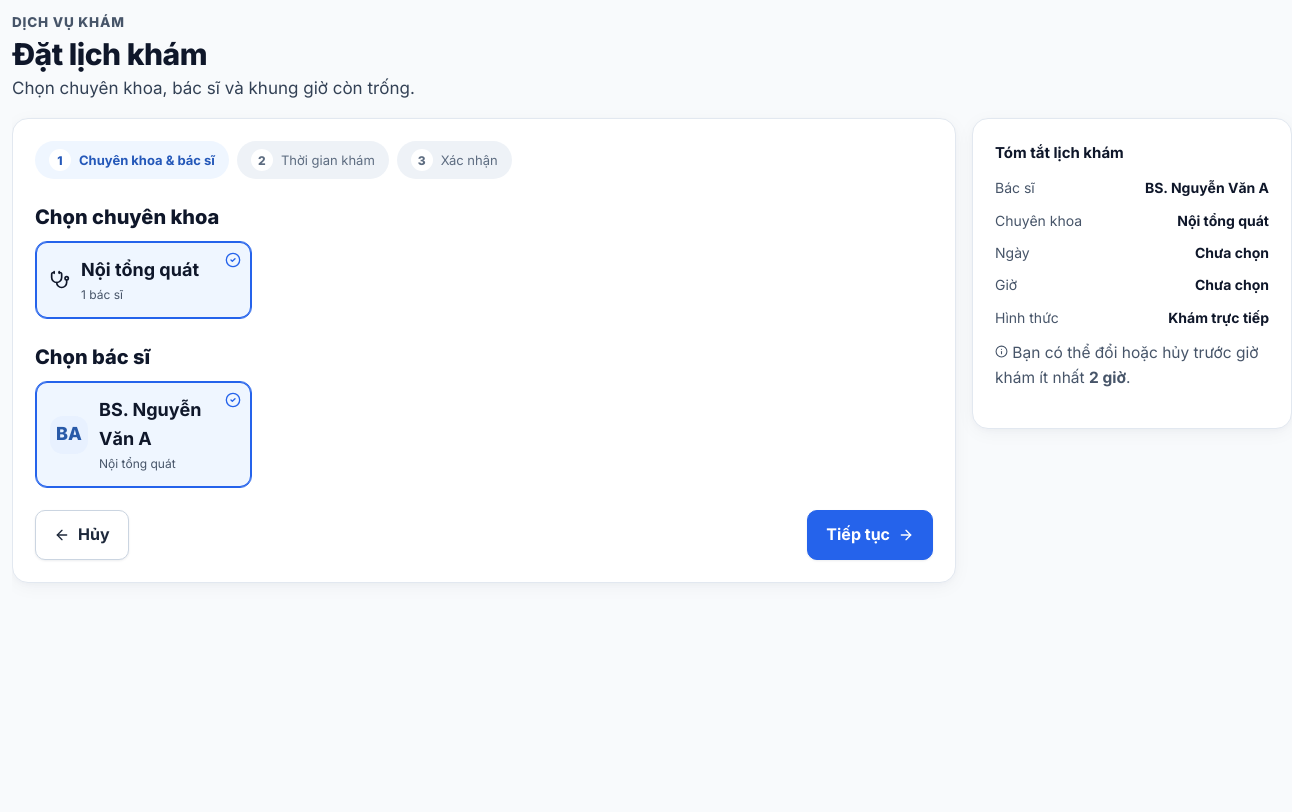
Test case: BookingPage offline resilience (NFR-09 / AGENT-TC-001) › shows error within 10s on network loss, preserves selection, and reuses the same Idempotency-Key on retry
This screenshot has width=1292, height=812.
Click the button "Tiếp tục" at (870, 535), box left=807, top=510, right=933, bottom=560
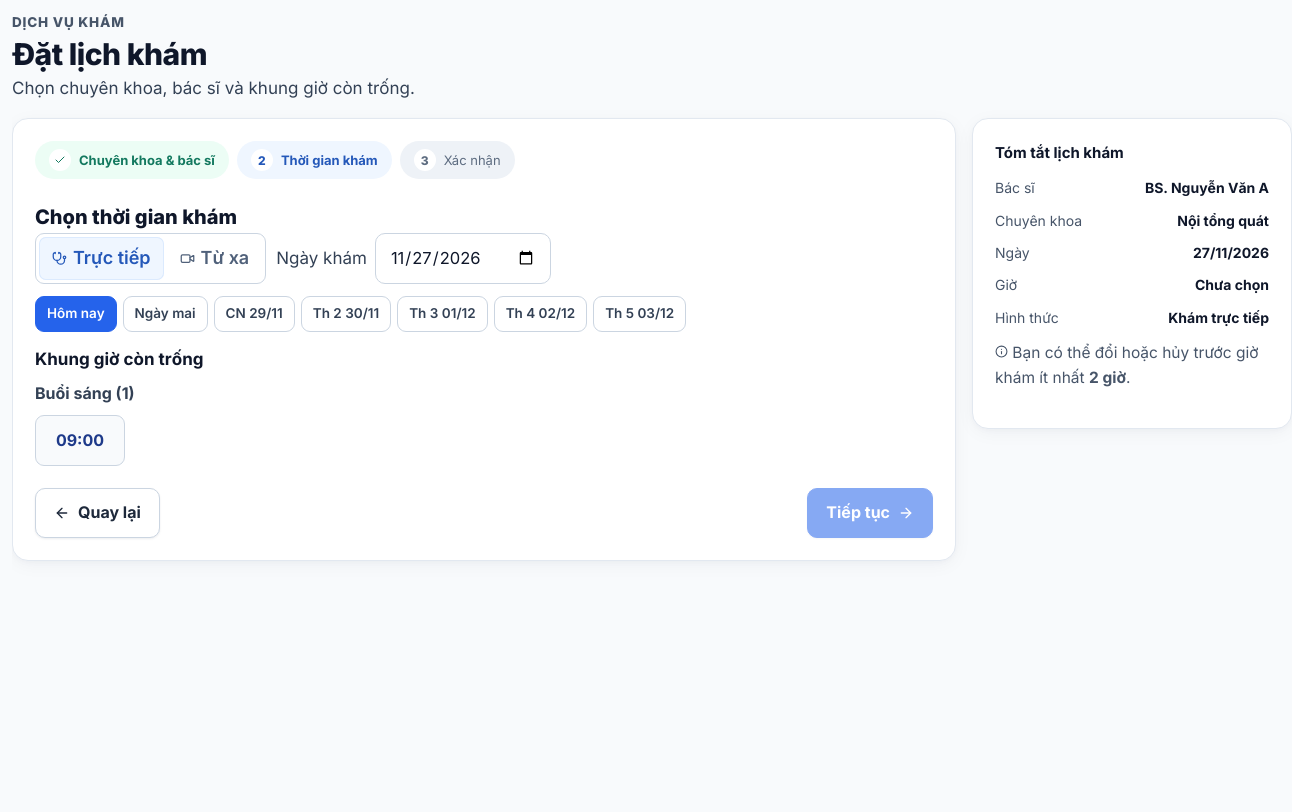
Click the button "09:00" at (80, 441), box left=35, top=415, right=125, bottom=466
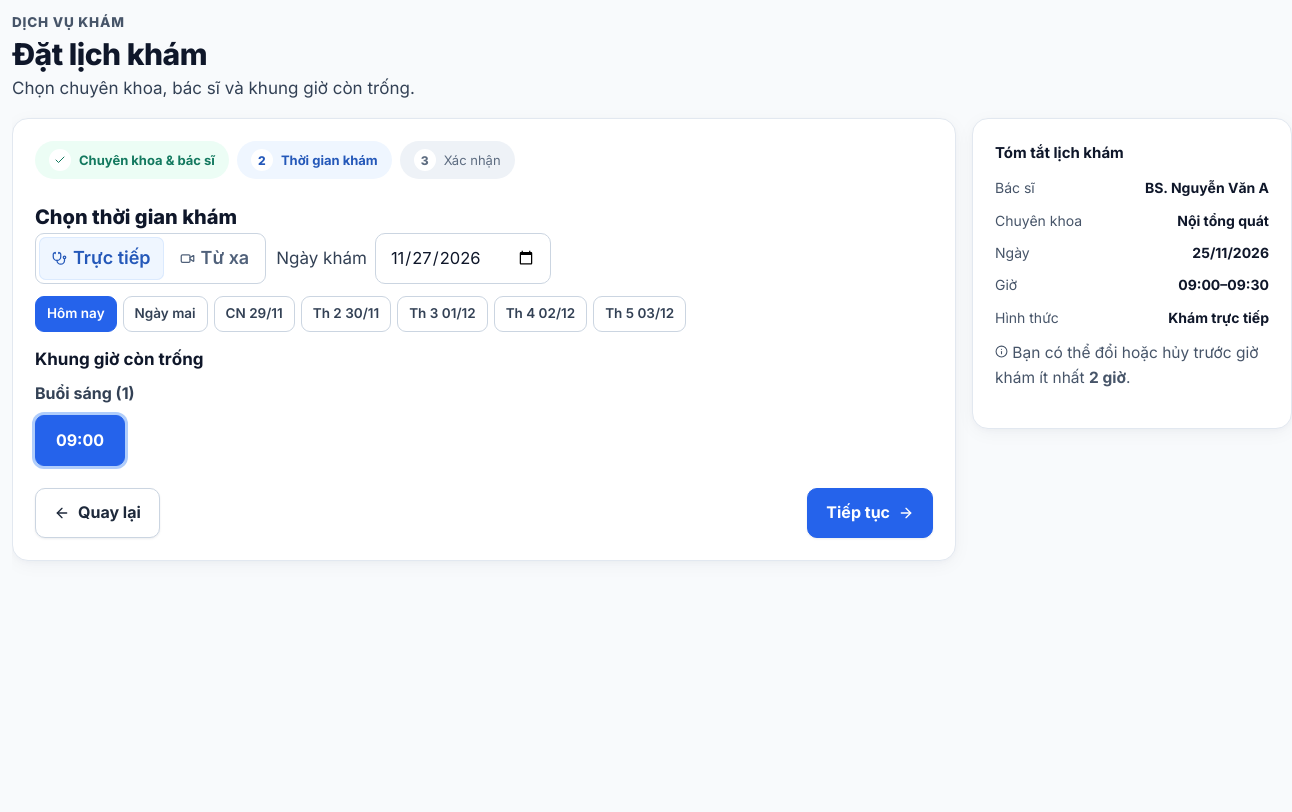
Click the button "Tiếp tục" at (870, 513), box left=807, top=488, right=933, bottom=538
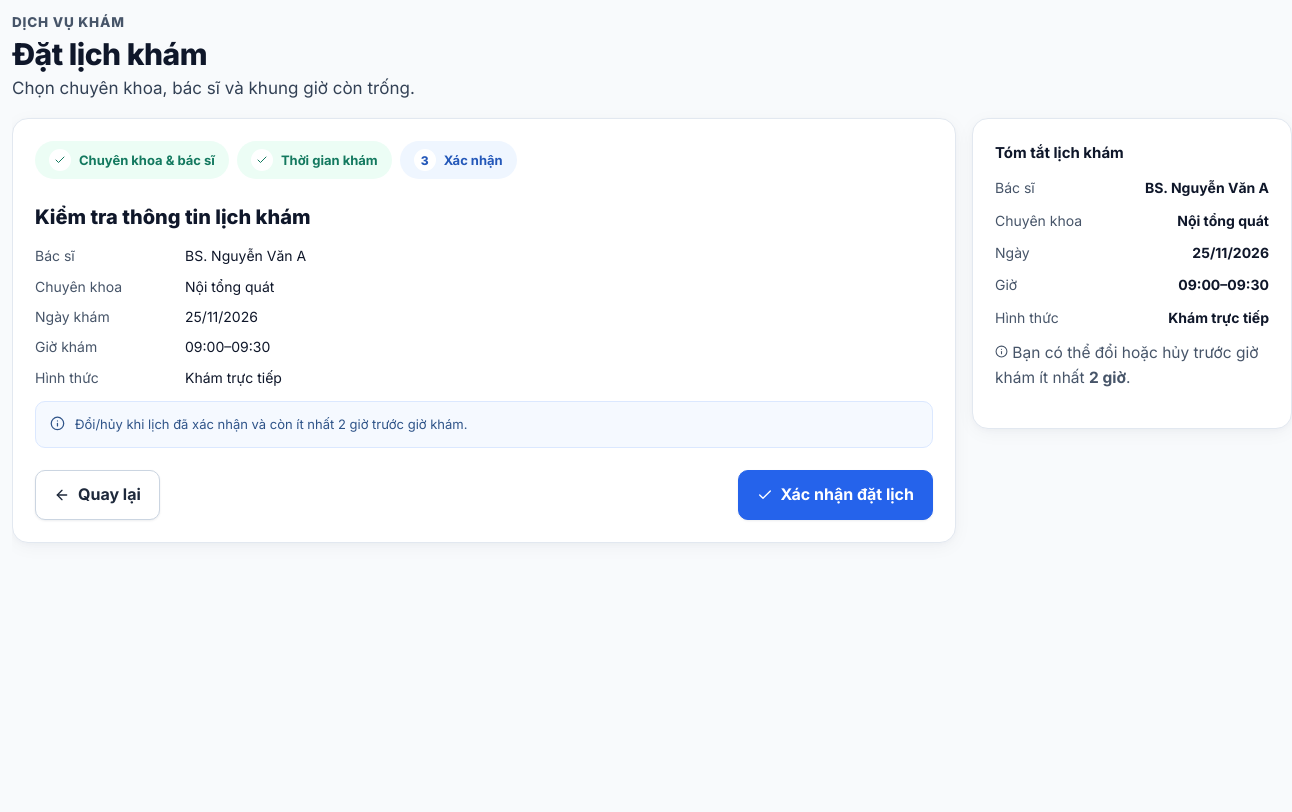
expect the heading "Kiểm tra thông tin lịch khám" is shown: met, box left=35, top=205, right=310, bottom=229
Trigger offline failure on Step 3 and measure time to error notice
Click the button "Xác nhận đặt lịch" at (835, 495), box left=738, top=470, right=933, bottom=520
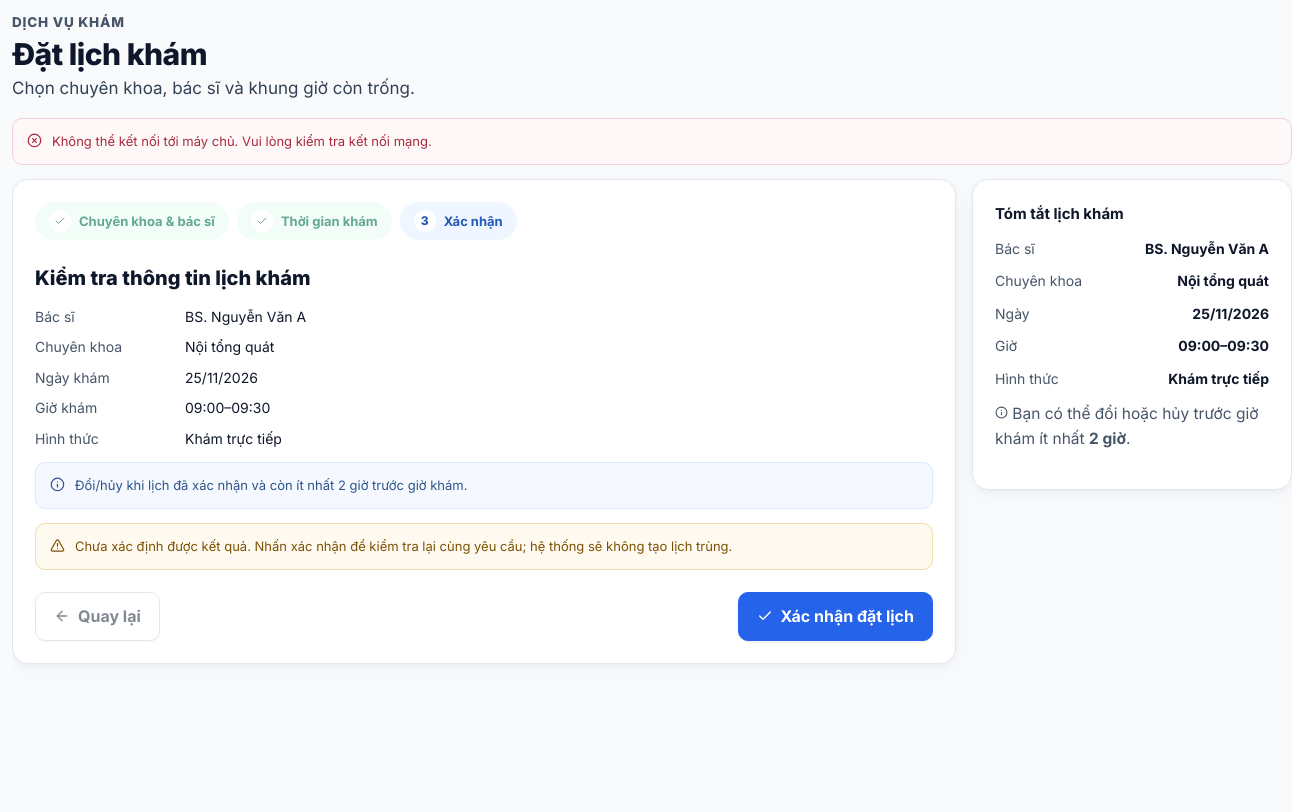
expect the heading "Kiểm tra thông tin lịch khám" is shown: met, box left=35, top=266, right=310, bottom=290
expect the text "Không thể kết nối tới máy chủ" is shown: met, box left=52, top=133, right=432, bottom=149
expect the text "Chưa xác định được kết quả" is shown: met, box left=75, top=538, right=732, bottom=554
Click the button "Xác nhận đặt lịch" at (835, 616), box left=738, top=592, right=933, bottom=641
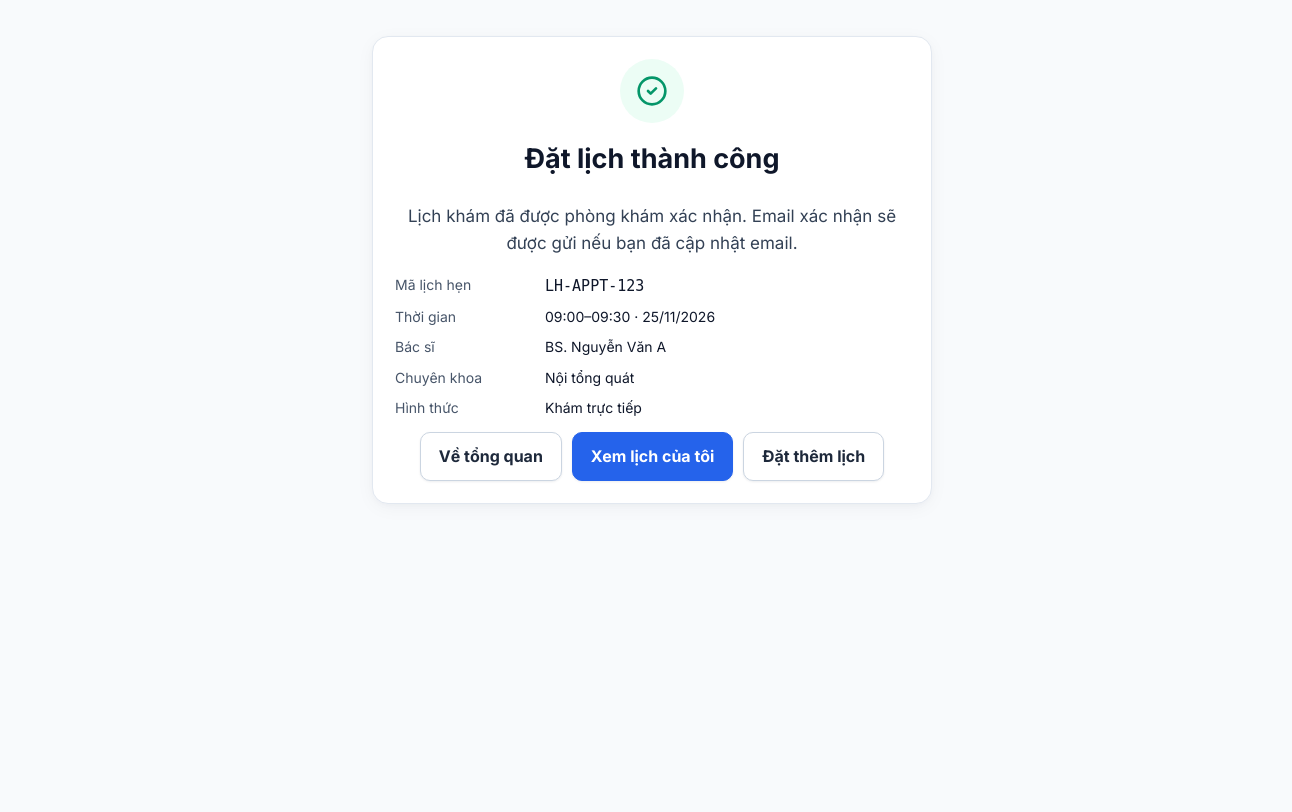
expect the heading "Đặt lịch thành công" is shown: met, box left=524, top=142, right=780, bottom=175
